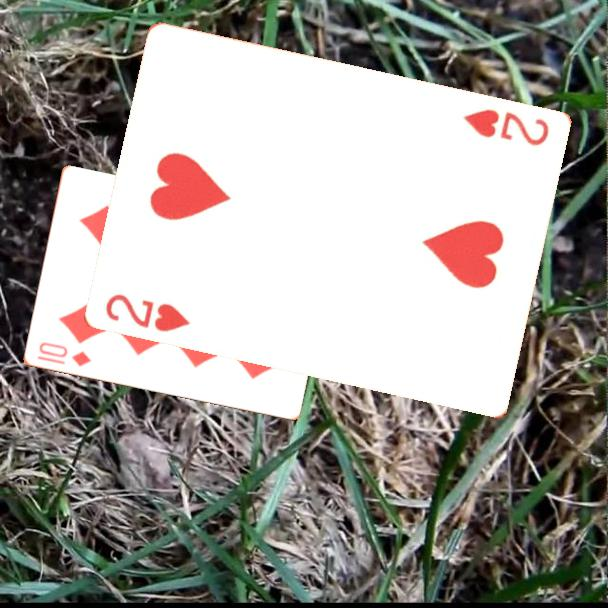d10: (35, 339, 94, 370)
h02: (101, 290, 193, 335), (459, 106, 551, 149)
